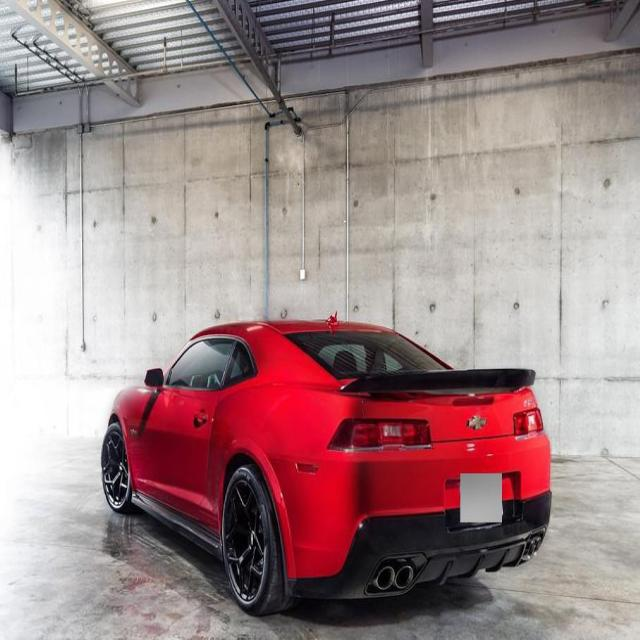back_glass: (283, 330, 454, 378)
back_left_side_light: (326, 415, 432, 452)
back_right_side_light: (509, 406, 544, 436)
front_left_side_door: (137, 332, 237, 526)
front_left_side_mirror: (143, 366, 166, 392)
rear_bumper: (277, 487, 553, 602)
wheel: (219, 466, 291, 614), (101, 422, 134, 511)
